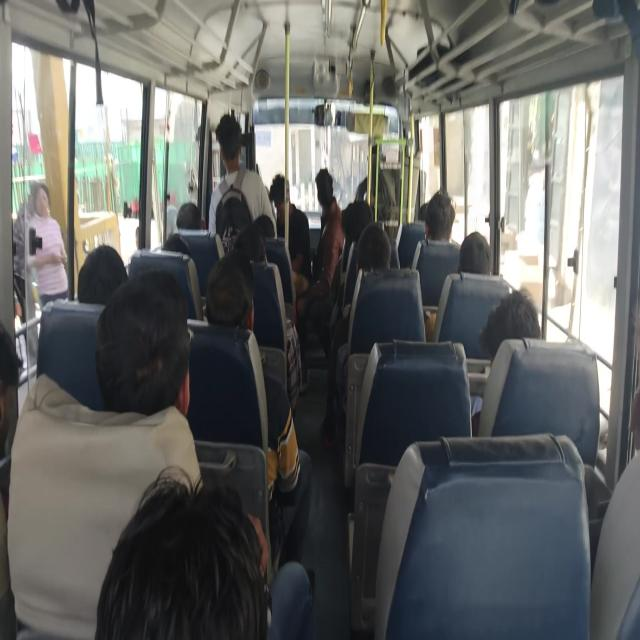person: (125, 485, 284, 640), (96, 262, 194, 378), (496, 296, 588, 414), (0, 344, 42, 485), (217, 112, 263, 194), (466, 222, 502, 302), (206, 256, 243, 314), (70, 231, 118, 274), (344, 207, 387, 246), (369, 238, 405, 283), (238, 215, 272, 251), (240, 229, 269, 268), (182, 202, 214, 236), (418, 190, 443, 228), (272, 178, 296, 214), (323, 163, 344, 191), (430, 185, 452, 209), (169, 234, 188, 256)
